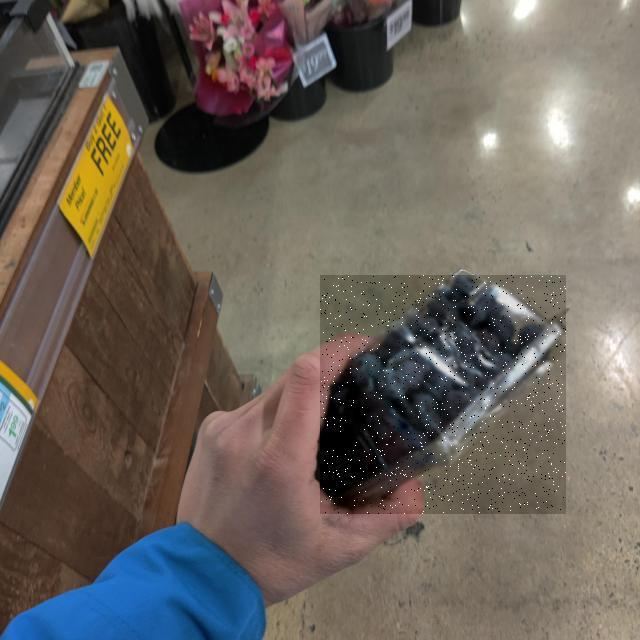Blue Berries: (321, 275, 567, 514)
